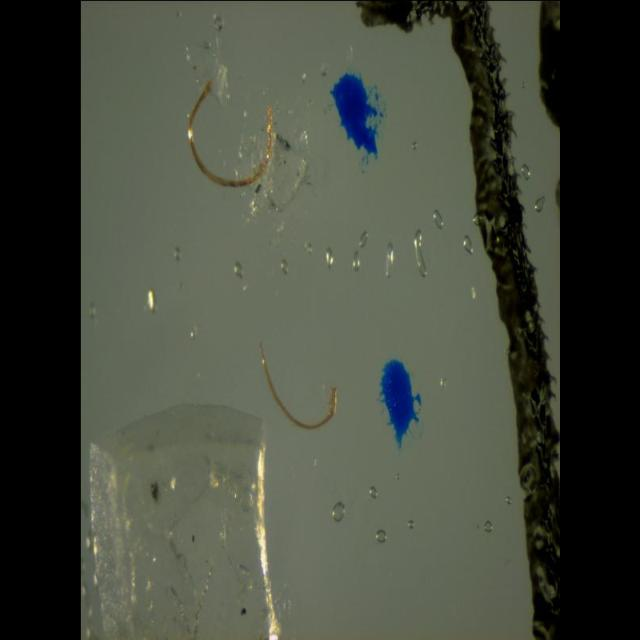Fibre: (181, 61, 279, 198), (257, 328, 339, 436)
